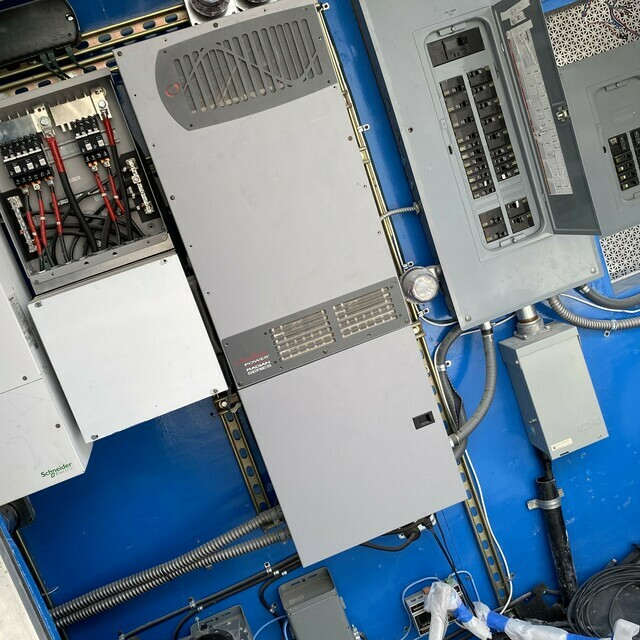inverter: (111, 4, 477, 558)
